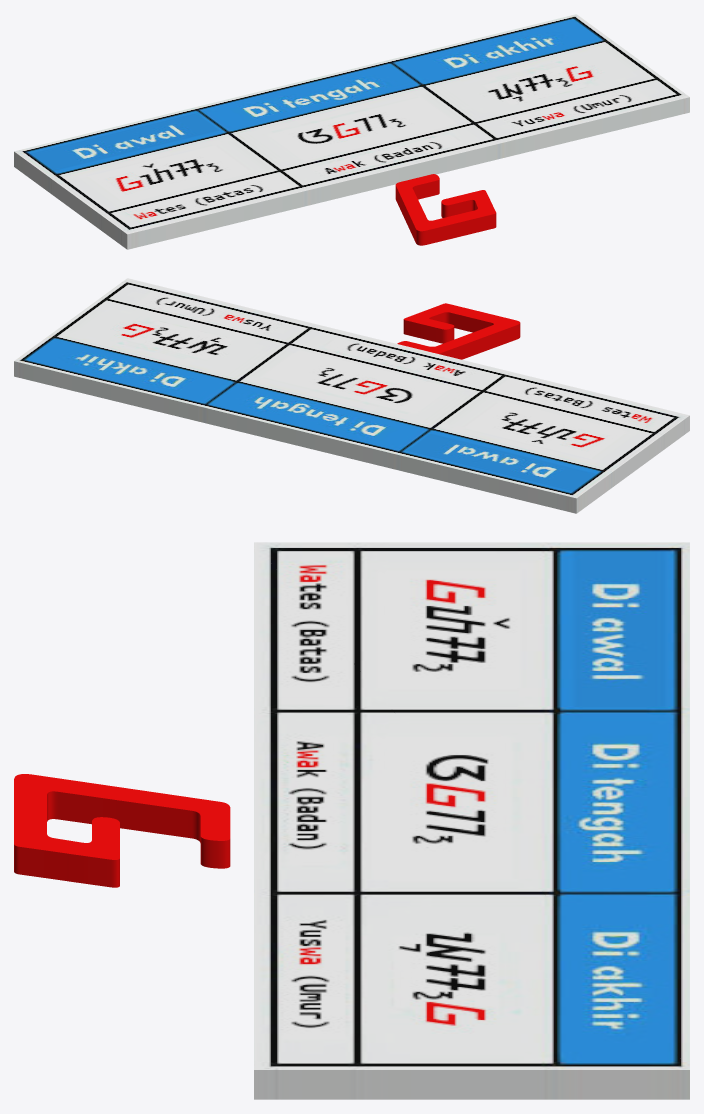
3 renders of one model, top to bottom at view 1: azimuth 30°, elevation 25°; view 2: azimuth 150°, elevation 25°; view 3: azimuth 270°, elevation 25°, orthographic. The views are drawn at different scales.
Parts seen in each view (by area): view 1: contoh-bunyi-huruf-wa-Ngalagena, Text; view 2: contoh-bunyi-huruf-wa-Ngalagena, Text; view 3: contoh-bunyi-huruf-wa-Ngalagena, Text.
Part boxes in pixels (x1,y1,x2,y2): contoh-bunyi-huruf-wa-Ngalagena: (14,14,689,249); Text: (395,174,496,245); contoh-bunyi-huruf-wa-Ngalagena: (14,278,689,513); Text: (397,303,520,359); contoh-bunyi-huruf-wa-Ngalagena: (254,542,689,1099); Text: (14,774,230,887).
Bounding box in the file's own units: 2.86 × 0.11 × 1.55.
2 materials, 1 textured.
